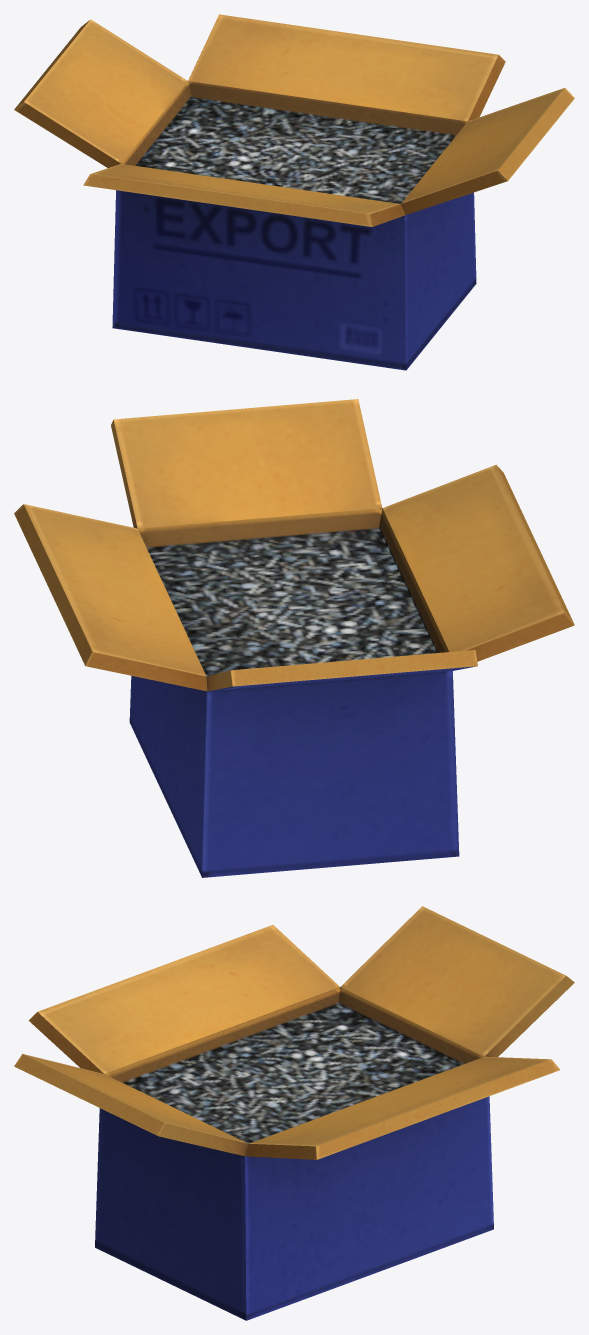
File: ShenFuXiuXiShi_01_dingzihe_01.FBX
3 views of the same model, one above another, from view 1: azimuth 30°, elevation 25°; view 2: azimuth 150°, elevation 25°; view 3: azimuth 270°, elevation 25° (orthographic). The views are drawn at different scales.
Visible parts, largest first — view 1: ShenFuXiuXiShi_01_dingzihe_01; view 2: ShenFuXiuXiShi_01_dingzihe_01; view 3: ShenFuXiuXiShi_01_dingzihe_01.
Part boxes in pixels (x1=…): ShenFuXiuXiShi_01_dingzihe_01: x1=14, y1=14, x2=574, y2=370; ShenFuXiuXiShi_01_dingzihe_01: x1=14, y1=399, x2=574, y2=877; ShenFuXiuXiShi_01_dingzihe_01: x1=14, y1=906, x2=574, y2=1320.
Bounding box in the file's own units: 209 × 95.08 × 216.
